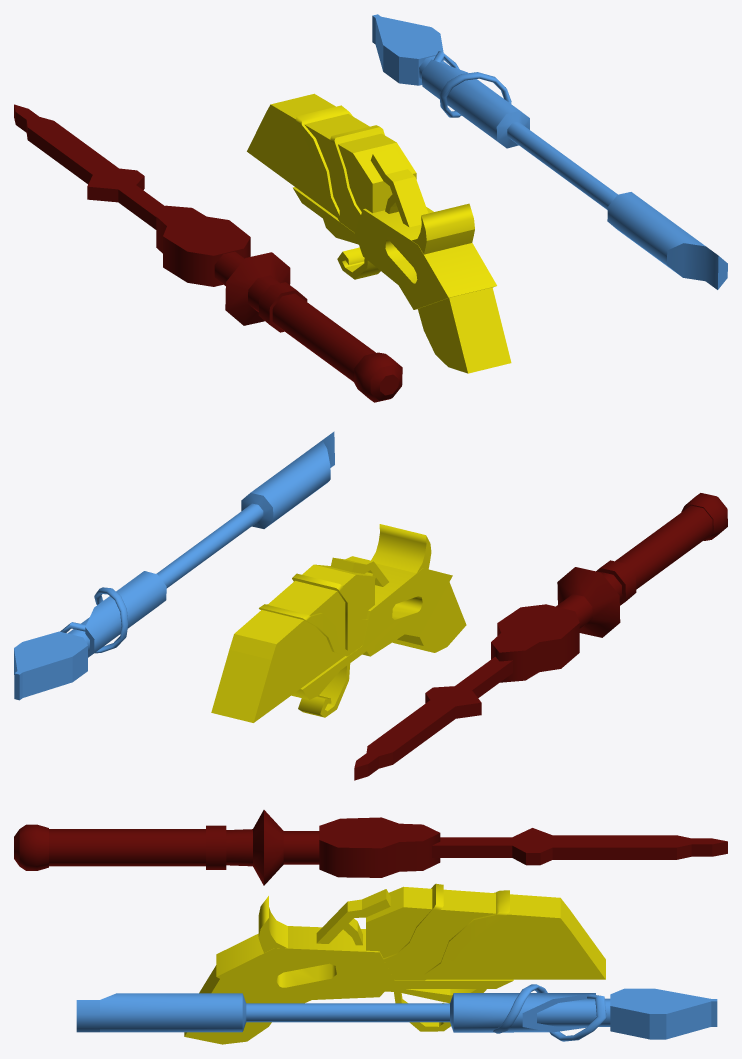
File: PUCK_Weapon5.fbx
The picture shows the model from 3 angles, top to bottom: view 1: azimuth 30°, elevation 25°; view 2: azimuth 150°, elevation 25°; view 3: azimuth 270°, elevation 25°; orthographic projection. The views are drawn at different scales.
Parts seen in each view (by area): view 1: LightningWand, Wand, IceWand; view 2: LightningWand, Wand, IceWand; view 3: LightningWand, Wand, IceWand.
Part boxes in pixels (x1,y1,x2,y2): LightningWand: (247, 93, 511, 373); Wand: (14, 104, 402, 402); IceWand: (372, 14, 727, 289); LightningWand: (211, 524, 466, 722); Wand: (354, 493, 727, 780); IceWand: (14, 431, 334, 700); LightningWand: (184, 883, 605, 1044); Wand: (14, 810, 727, 885); IceWand: (76, 984, 717, 1041).
Bounding box in the file's own units: 80.22 × 27.06 × 125.
